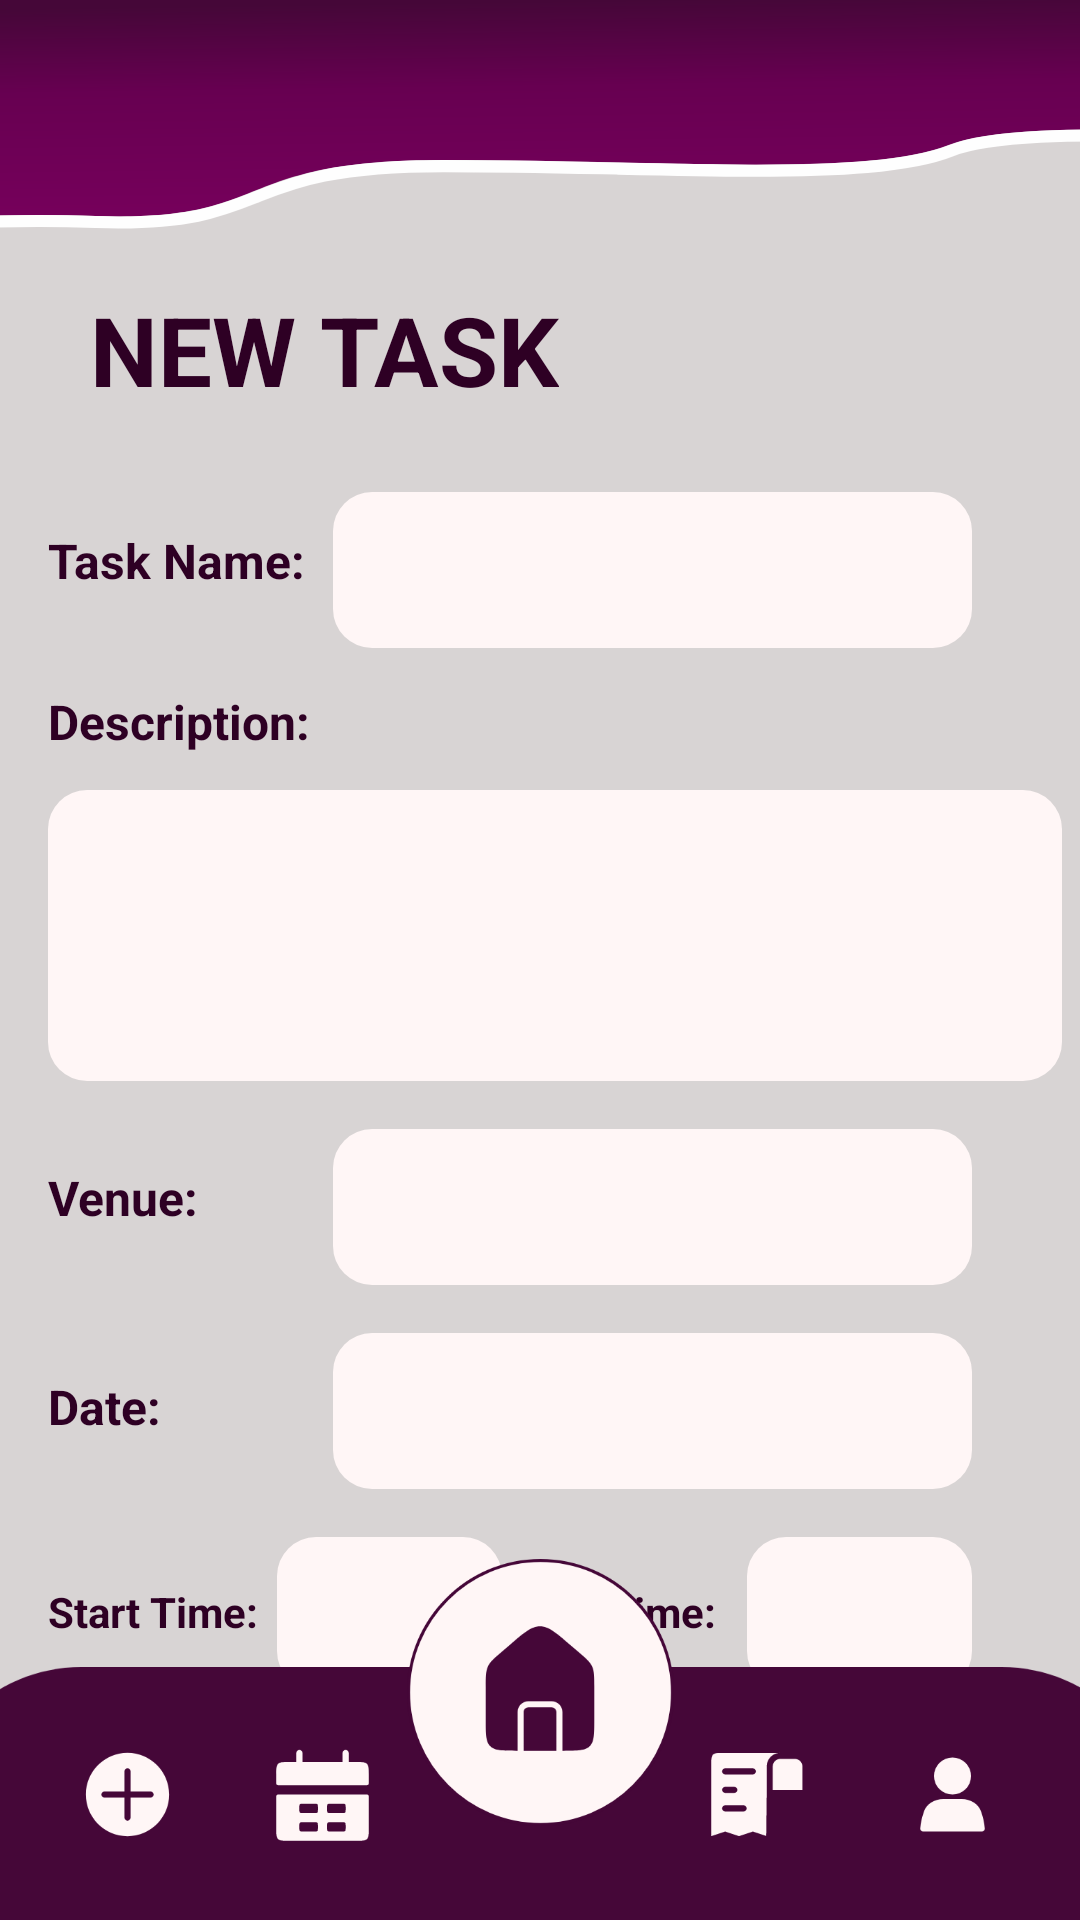

Point at icon controls on the screen. Image size 1080x1920, points as (x,y).
acc: (952,1794)
add: (127,1794)
event: (322,1795)
